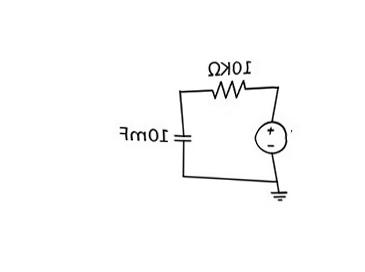Battery: (244, 116, 296, 161)
